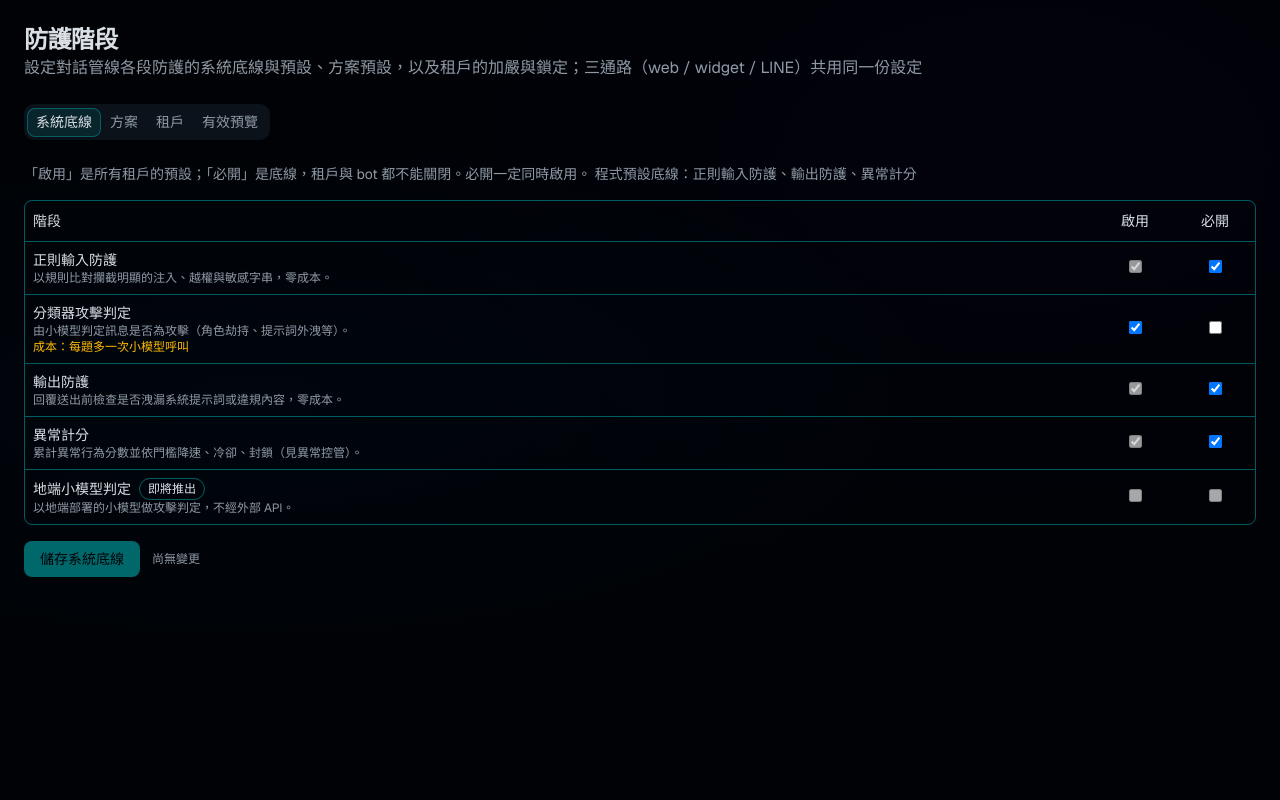
Test: AdminGuardControlPage › 有效預覽：以租戶清單逐列讀取有效階段、方案與鎖定
Click the tab "有效預覽".
click(230, 122)  # box top-left (193, 108), bottom-right (267, 136)
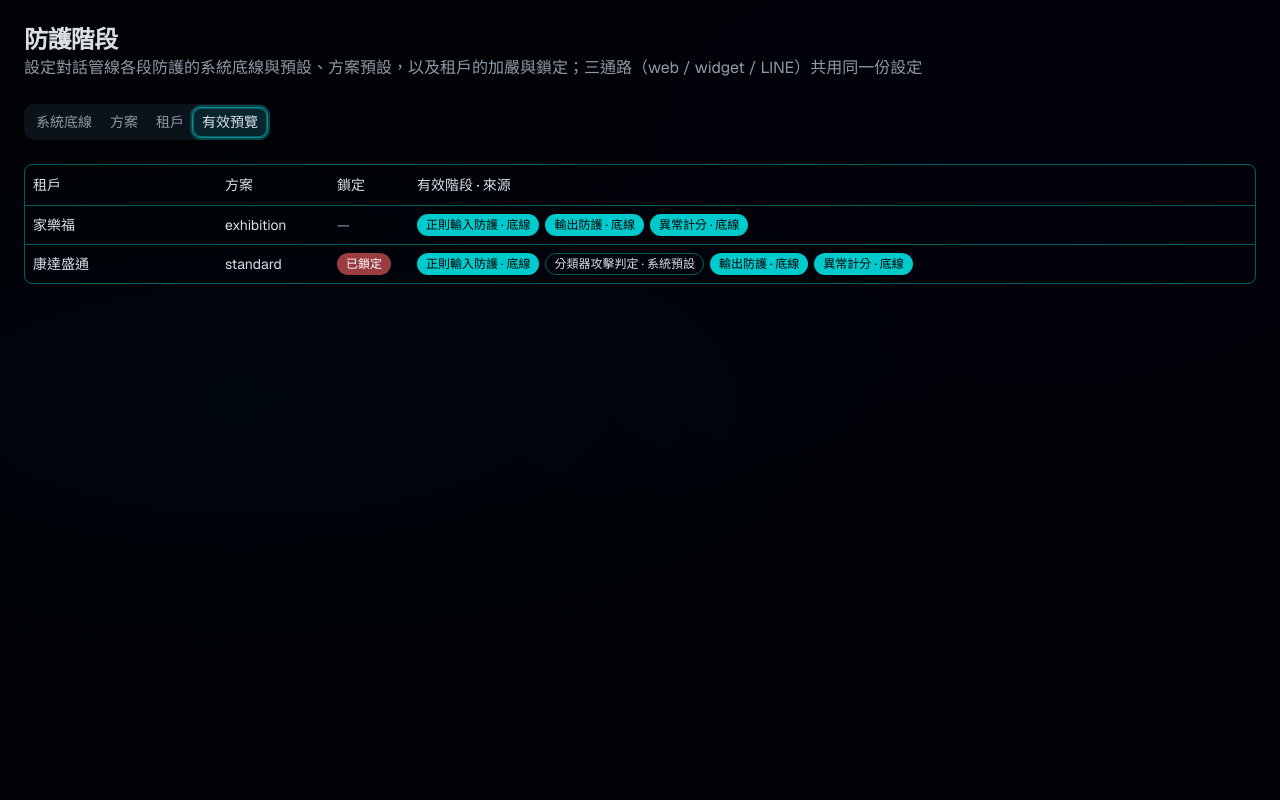
Check: the text "exhibition" is shown, box top-left (217, 205), bottom-right (329, 244)
Check: the text with test id "effective-stage-regex_input" reads "正則輸入防護 · 底線", box top-left (417, 214), bottom-right (540, 236)
Check: the text "已鎖定" is shown, box top-left (337, 252), bottom-right (391, 274)
